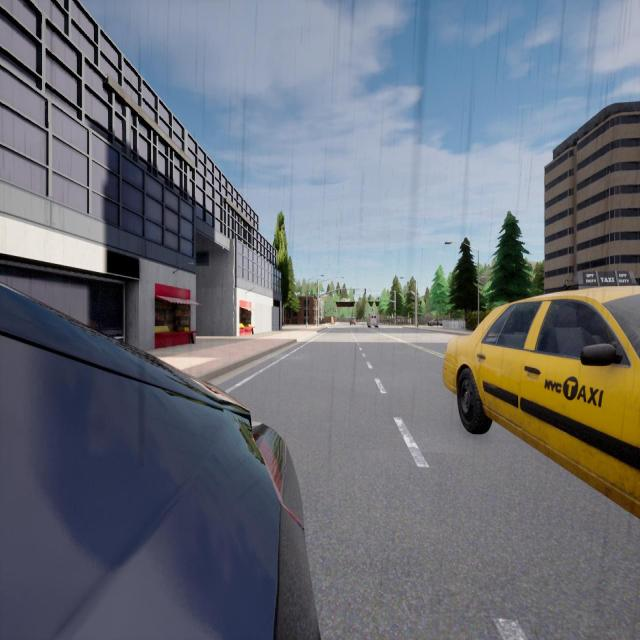Vehicle: (0, 285, 319, 640), (443, 286, 639, 518), (367, 312, 379, 328), (428, 318, 442, 326), (350, 316, 356, 326)
traffic_light: (394, 308, 396, 315), (353, 288, 355, 294), (364, 288, 366, 294), (340, 289, 341, 295), (359, 298, 361, 301), (368, 297, 369, 302), (378, 298, 379, 300)
